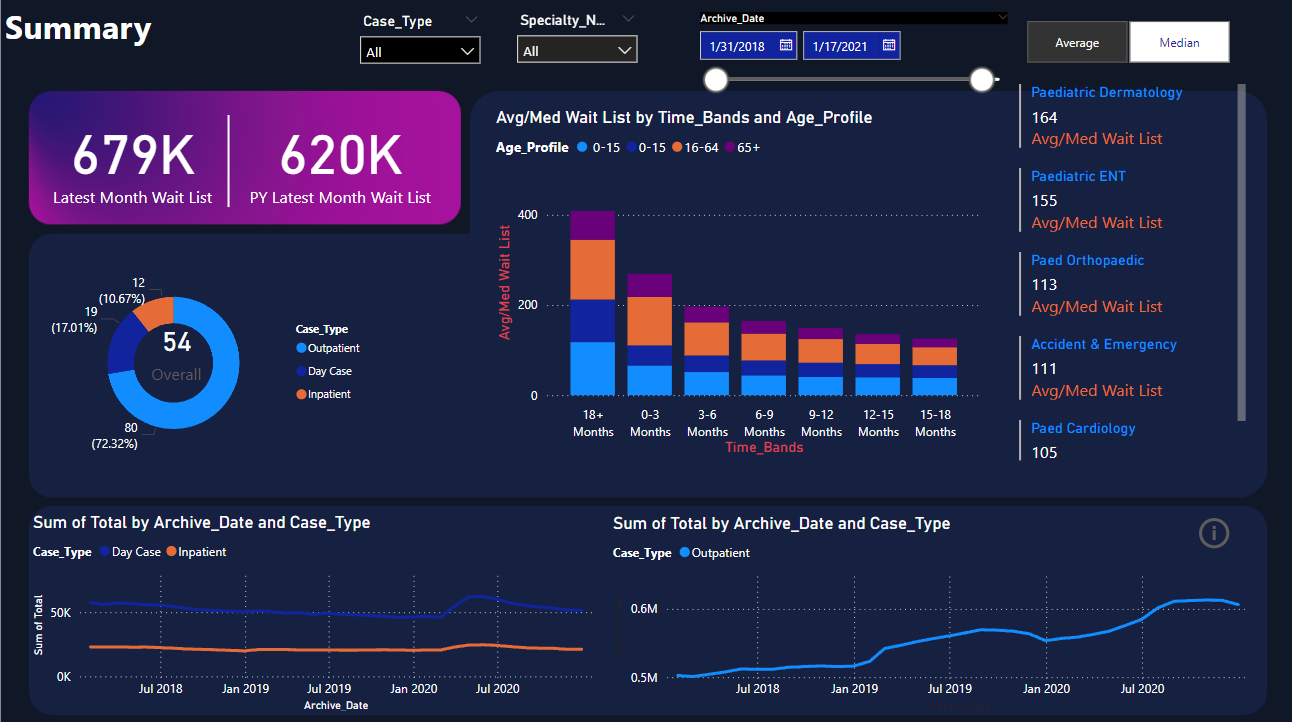

The dashboard page shown, as its layout file describes it:
{"tool":"powerbi","page":{"name":"Summary","canvas":[1280,720],"ordinal":0},"visuals":[{"type":"card","fields":{"Values":["All_Data.Latest Month Wait List"]},"box":[46.1,107.3,169.4,99.3],"z":0},{"type":"card","fields":{"Values":["All_Data.PY Latest Month Wait List"]},"box":[226.1,107.3,219.9,99.3],"z":1000},{"type":"slicer","fields":{"Values":["Calculation Method.Calc Method"]},"box":[989.2,14.6,250,55.4],"z":2000},{"type":"donutChart","fields":{"Category":["All_Data.Case_Type"],"Y":["All_Data.Avg/Med Wait List"]},"box":[45.7,263.6,323.9,191.6],"z":3000},{"type":"columnChart","fields":{"Y":["All_Data.Avg/Med Wait List"],"Category":["All_Data.Time_Bands"],"Series":["All_Data.Age_Profile"]},"box":[485.3,107,489.2,349.2],"z":4000},{"type":"multiRowCard","fields":{"Values":["All_Data.Avg/Med Wait List","All_Data.Specialty_Name"]},"box":[1001.8,78.8,234.4,382.2],"z":5000},{"type":"lineChart","fields":{"Category":["All_Data.Archive_Date"],"Y":["Sum(All_Data.Total)"],"Series":["All_Data.Case_Type"]},"box":[27.3,507.1,574.3,201.5],"z":6000},{"type":"lineChart","fields":{"Category":["All_Data.Archive_Date"],"Y":["Sum(All_Data.Total)"],"Series":["All_Data.Case_Type"]},"box":[601.2,508.1,650,201.3],"z":7000},{"type":"slicer","fields":{"Values":["All_Data.Archive_Date"]},"box":[679.2,8,329.9,90.4],"z":8000},{"type":"slicer","fields":{"Values":["All_Data.Case_Type"]},"box":[346.3,8.8,139.1,70],"z":9000},{"type":"slicer","fields":{"Values":["All_Data.Specialty_Name"]},"box":[501,8,139.2,70],"z":10000},{"type":"textbox","box":[0,0,174.1,70],"z":11000},{"type":"card","fields":{"Values":["All_Data.Avg/Med Wait List"]},"box":[135.2,295.7,77.8,104.1],"z":12000},{"type":"shape","box":[75.9,114.8,299.6,91.4],"z":13000},{"type":"actionButton","box":[1179.8,507.7,100.2,39.9],"z":14000}]}

Visuals, with their boxes in screenshot pixels (x1, y1, x2, y2), scaled from the page's 1280x720 canvas onto the 1292x722 screenshot:
card - All_Data.Latest Month Wait List: <box>47,108,218,207</box>
card - All_Data.PY Latest Month Wait List: <box>228,108,450,207</box>
slicer - Calculation Method.Calc Method: <box>998,15,1251,70</box>
donutChart - All_Data.Case_Type x All_Data.Avg/Med Wait List: <box>46,264,373,456</box>
columnChart - All_Data.Avg/Med Wait List x All_Data.Time_Bands: <box>490,107,984,457</box>
multiRowCard - All_Data.Avg/Med Wait List x All_Data.Specialty_Name: <box>1011,79,1248,462</box>
lineChart - All_Data.Archive_Date x Sum(All_Data.Total): <box>28,509,607,711</box>
lineChart - All_Data.Archive_Date x Sum(All_Data.Total): <box>607,510,1263,711</box>
slicer - All_Data.Archive_Date: <box>686,8,1019,99</box>
slicer - All_Data.Case_Type: <box>350,9,490,79</box>
slicer - All_Data.Specialty_Name: <box>506,8,646,78</box>
textbox: <box>0,0,176,70</box>
card - All_Data.Avg/Med Wait List: <box>136,297,215,401</box>
shape: <box>77,115,379,207</box>
actionButton: <box>1191,509,1291,549</box>
